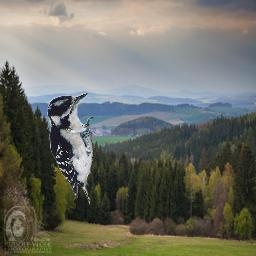Woodpecker: (47, 93, 96, 205)
